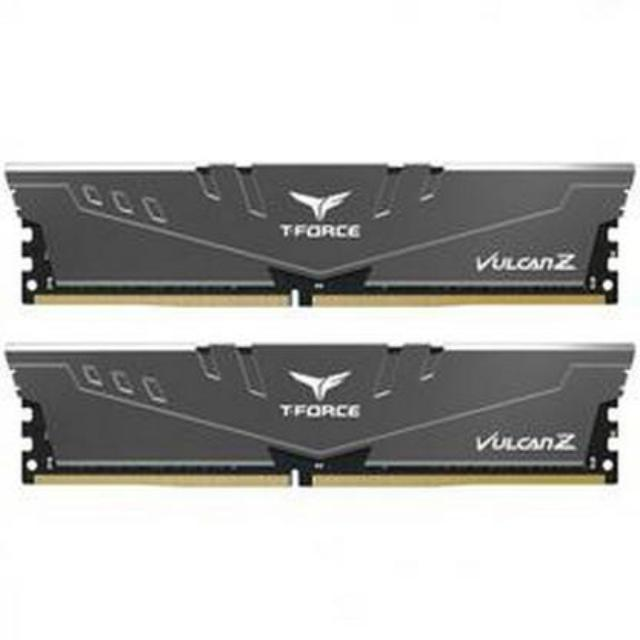RAM: (14, 132, 640, 312), (0, 343, 640, 508)
